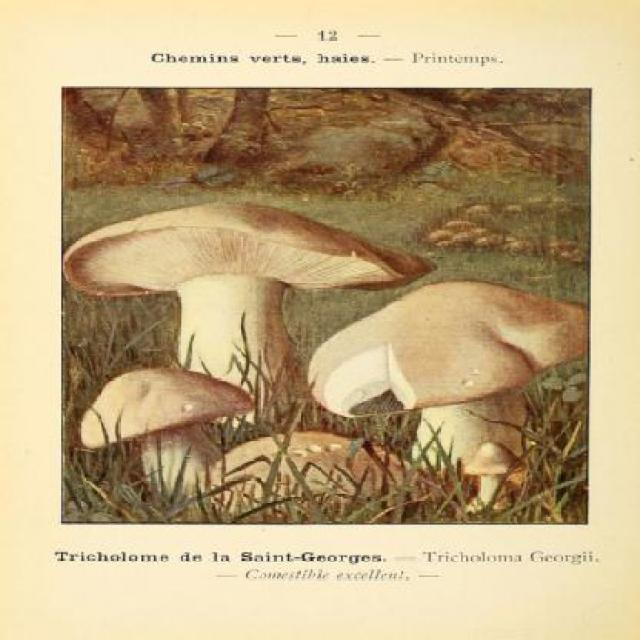Mushroom: (56, 200, 441, 428), (306, 272, 588, 491), (76, 372, 258, 494), (190, 430, 436, 512), (456, 440, 526, 517)
